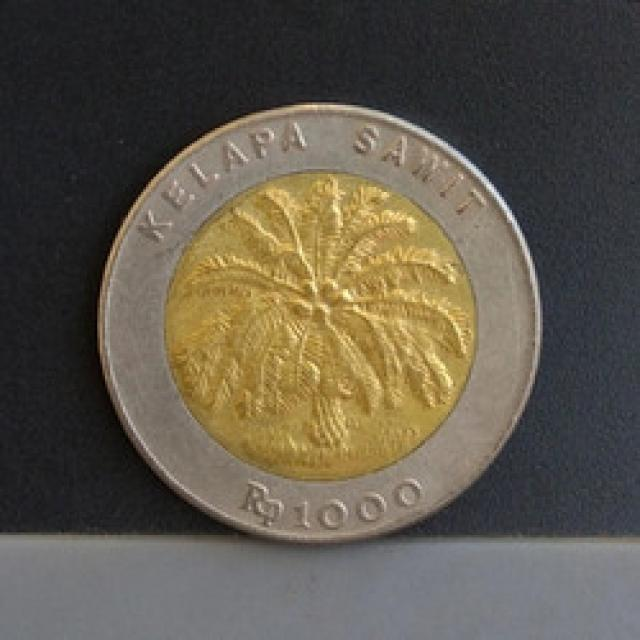1000-sawit: (93, 100, 550, 548)
